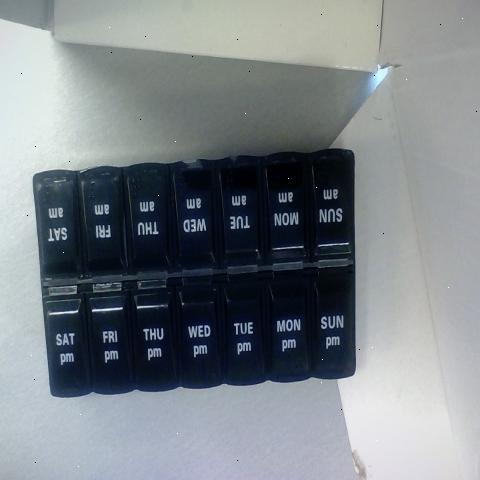FRI-am: (84, 175, 120, 270)
FRI-pm: (89, 284, 127, 392)
MON-am: (265, 155, 308, 258)
MON-pm: (264, 274, 306, 385)
SAT-am: (38, 179, 78, 275)
SAT-pm: (49, 291, 85, 395)
SUN-am: (312, 155, 346, 253)
SUN-pm: (313, 269, 350, 381)
THU-am: (125, 175, 166, 270)
THU-pm: (128, 282, 169, 390)
TUE-am: (217, 162, 258, 266)
TUE-pm: (218, 274, 261, 384)
WED-am: (172, 168, 213, 272)
WED-pm: (170, 278, 211, 391)
